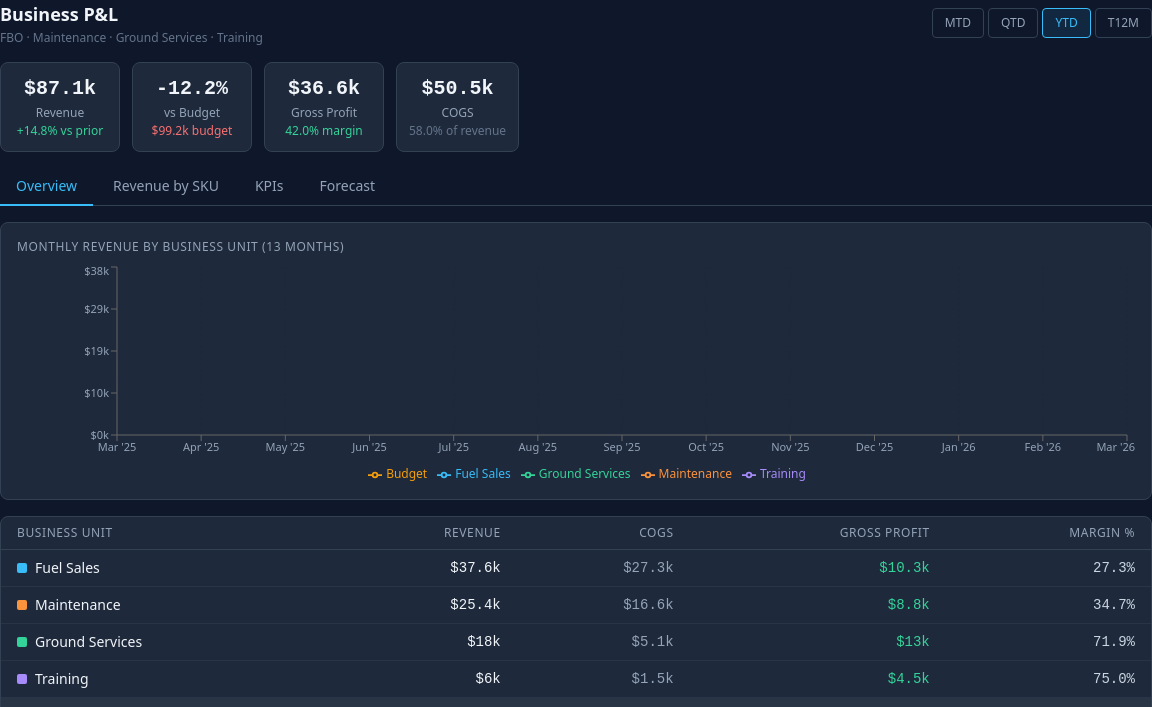
Test case: BusinessPnL page › switches to Forecast tab
Click the button "Forecast": (347, 187) [304,168,391,206]
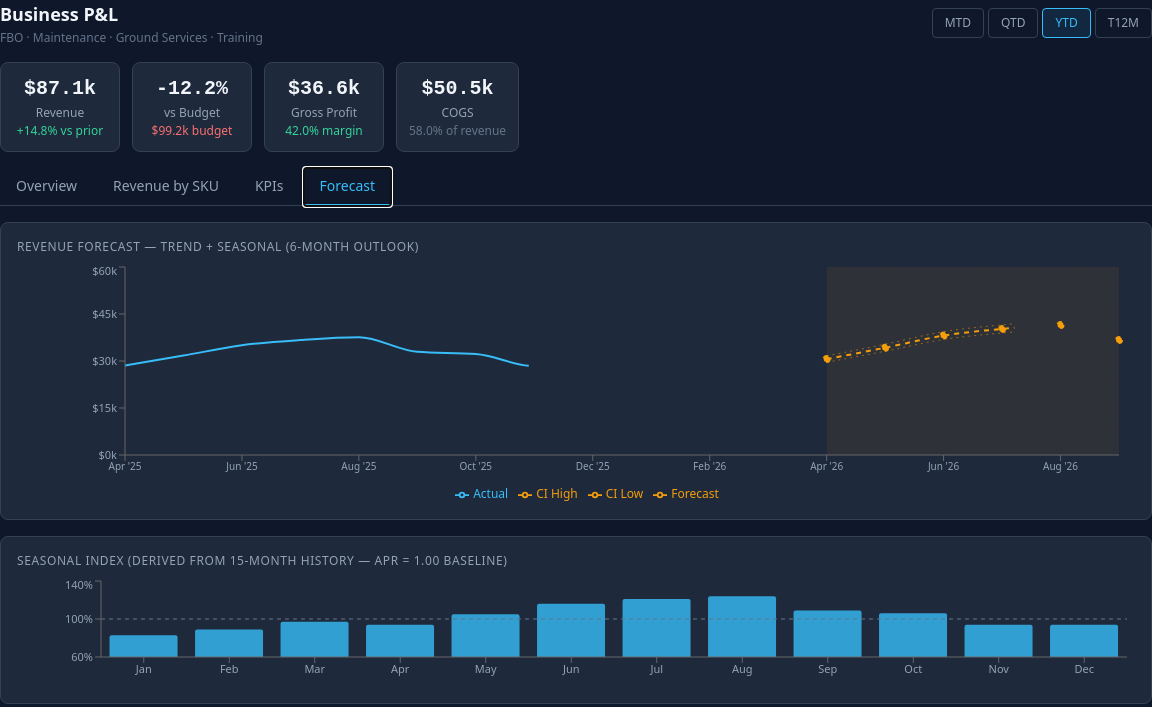
Result: the heading "Seasonal Index" is shown at [17,552,508,569]
